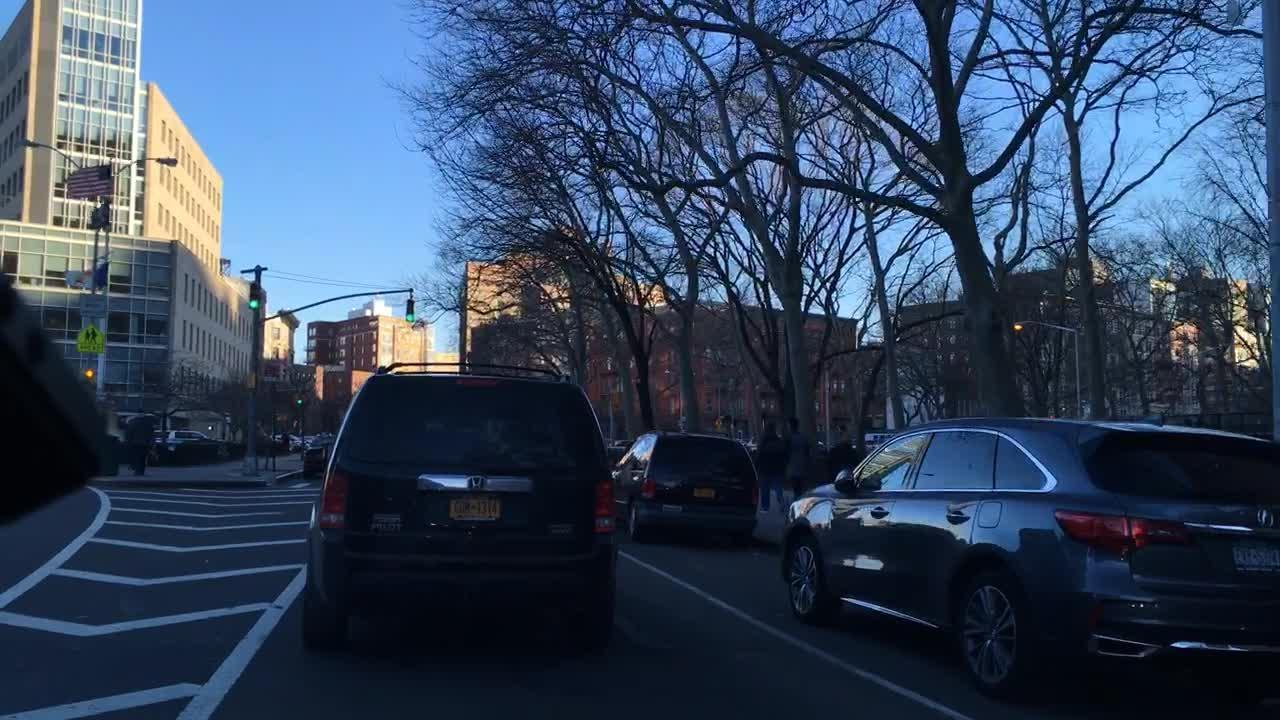Honda: (466, 472, 486, 494)
acura: (1250, 504, 1280, 532)
